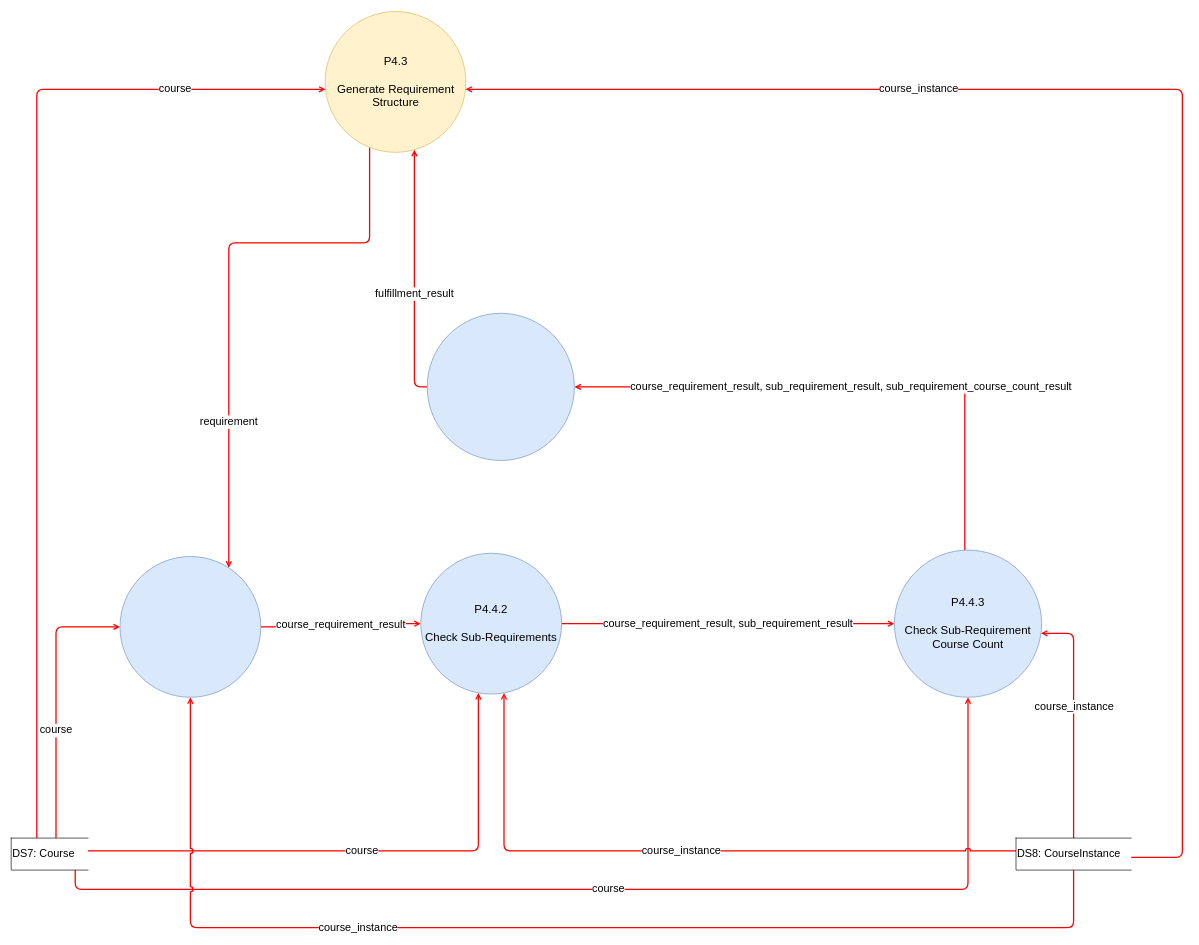
This 1199x945 diagram has some shape labels left out. The centre of each missing label's shape, as x and y in pixels:
P4.4.1 Check Course Requirements: [190,626]
P4.4.4 Check fulfilled: [500,386]
